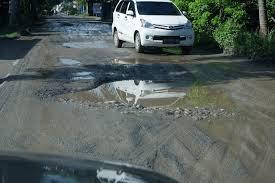Pothole: (51, 80, 218, 114), (49, 25, 113, 53), (52, 51, 102, 82), (115, 52, 227, 64)
